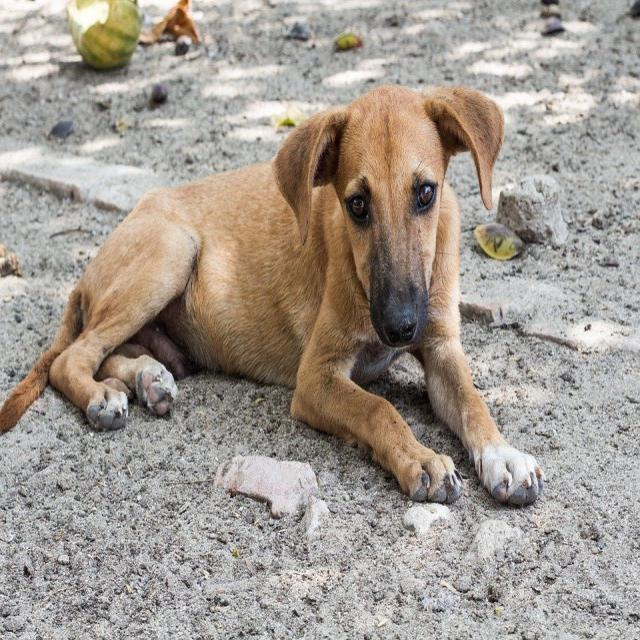dog: (6, 75, 572, 562)
